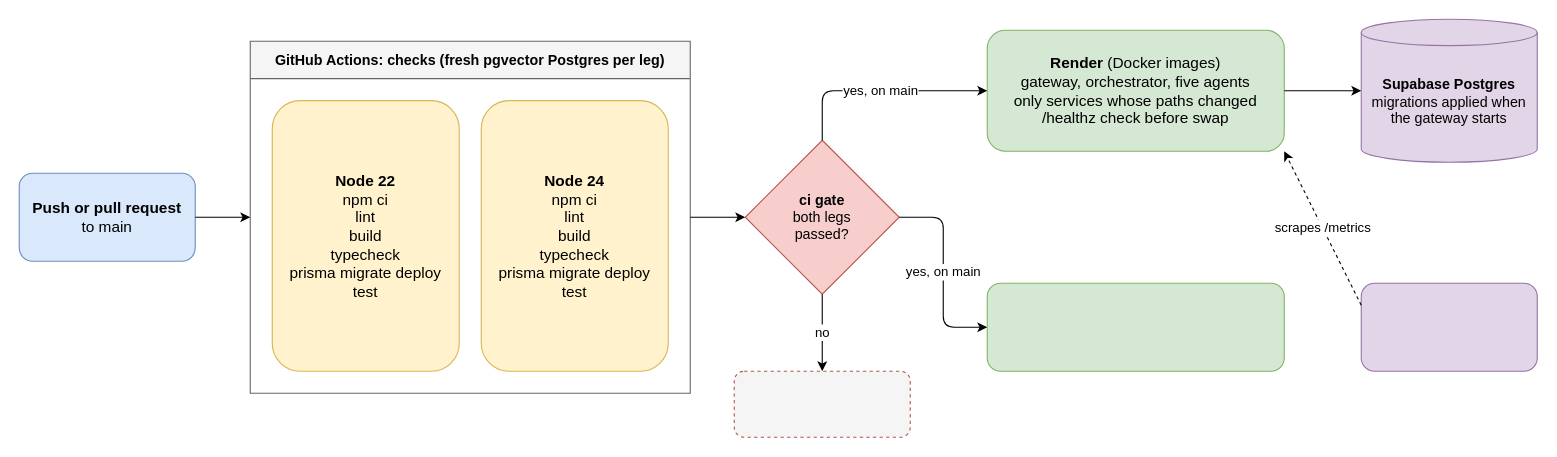
Image size: 1557x457. Some labels were removed from this diagram. The shapes that lost their labels are listed below. From the top down, each one's centre as x and y in pixels, then its label:
At [1135,326]: "Vercel Next.js dashboard built from main".
At [1448,326]: "Grafana Cloud metrics, dashboard, four alerts".
At [821,403]: "Merge blocked, nothing deploys".
